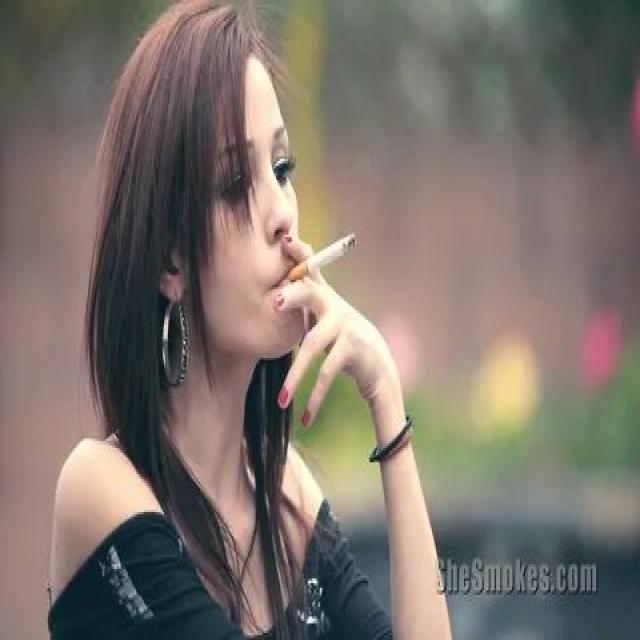cigarette: (283, 227, 361, 294)
